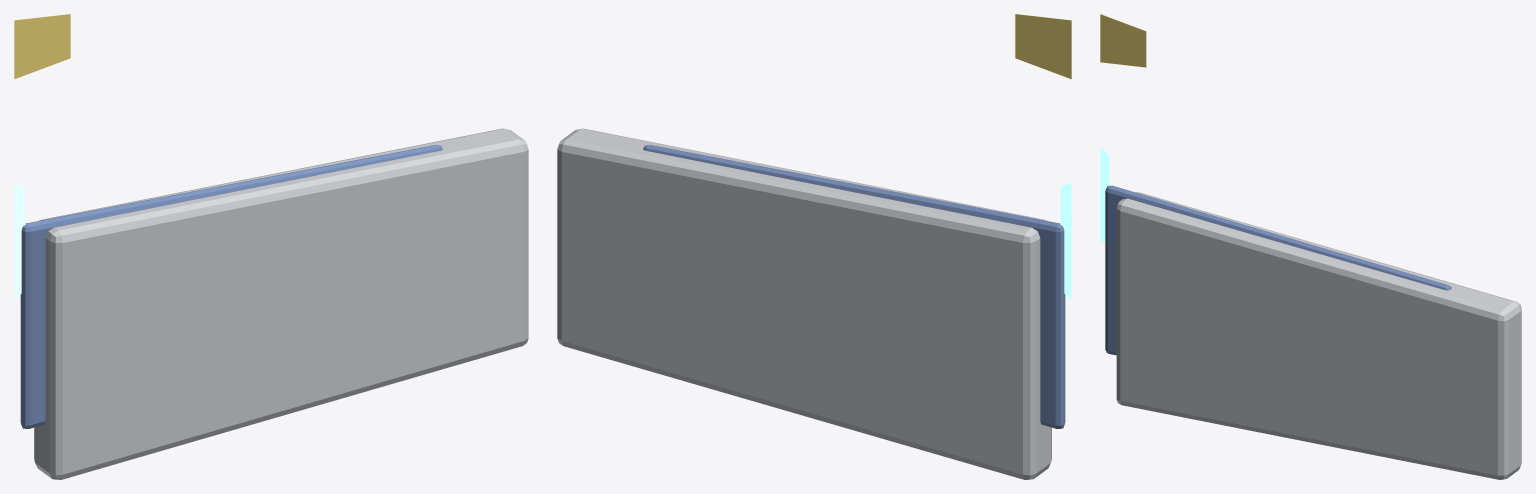
Rendered from weapon_shield.glb.
3 renders of one model, left to right at view 1: azimuth 30°, elevation 25°; view 2: azimuth 150°, elevation 25°; view 3: azimuth 330°, elevation 25°, orthographic. The views are drawn at different scales.
Parts seen in each view (by area): view 1: shield, rim, emblem, glow; view 2: shield, rim, emblem, glow; view 3: shield, rim, emblem, glow.
Boxes of the visible parts, x1,y1,x2,y2 form: shield: (34, 128, 528, 479); rim: (20, 145, 442, 428); emblem: (14, 14, 70, 79); glow: (14, 182, 25, 299); shield: (557, 128, 1051, 479); rim: (643, 145, 1065, 428); emblem: (1015, 14, 1071, 79); glow: (1060, 182, 1071, 299); shield: (1116, 192, 1521, 479); rim: (1105, 185, 1451, 355); emblem: (1100, 14, 1146, 67); glow: (1100, 147, 1109, 242).
Bounding box in the file's own units: 6.12 × 5.35 × 0.51.
